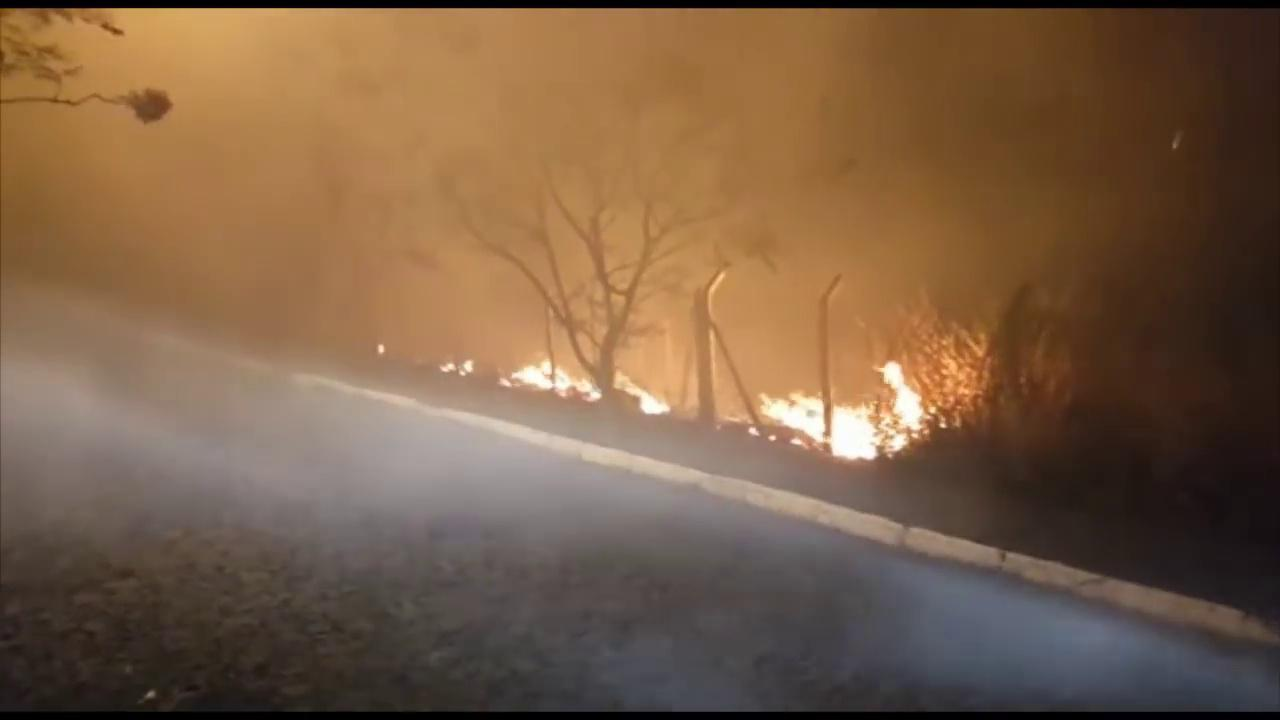Fire: (740, 358, 927, 463), (502, 356, 599, 400), (614, 371, 671, 414), (439, 357, 481, 378)
